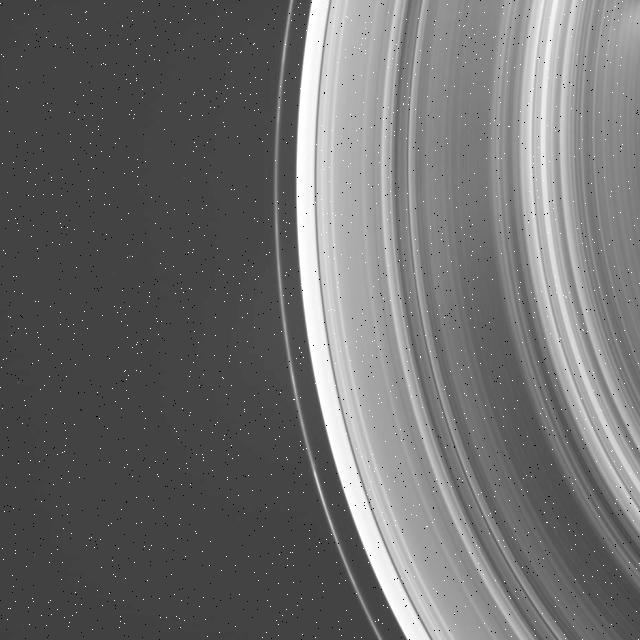Saturn: (271, 0, 640, 640)
